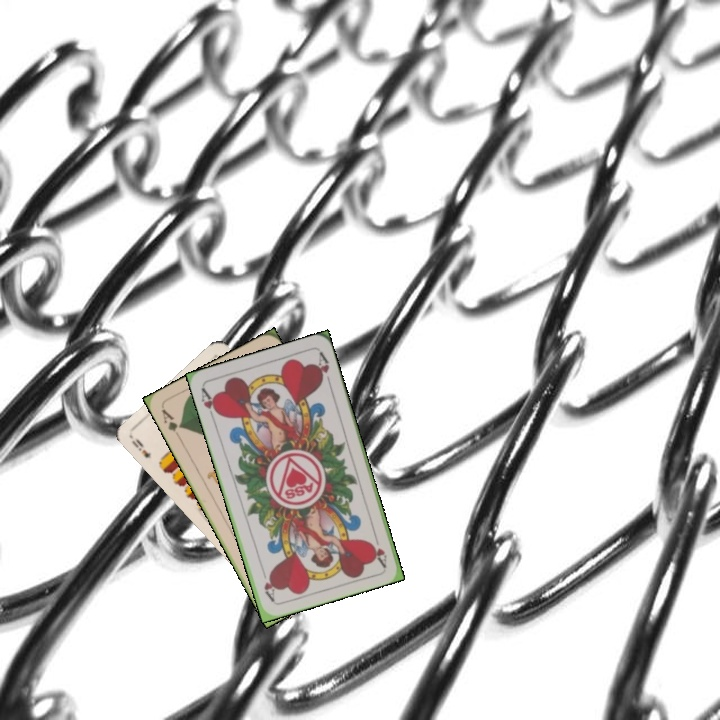E9: (127, 434, 154, 461)
GA: (157, 405, 185, 442)
HA: (197, 384, 222, 424), (368, 528, 389, 569)
